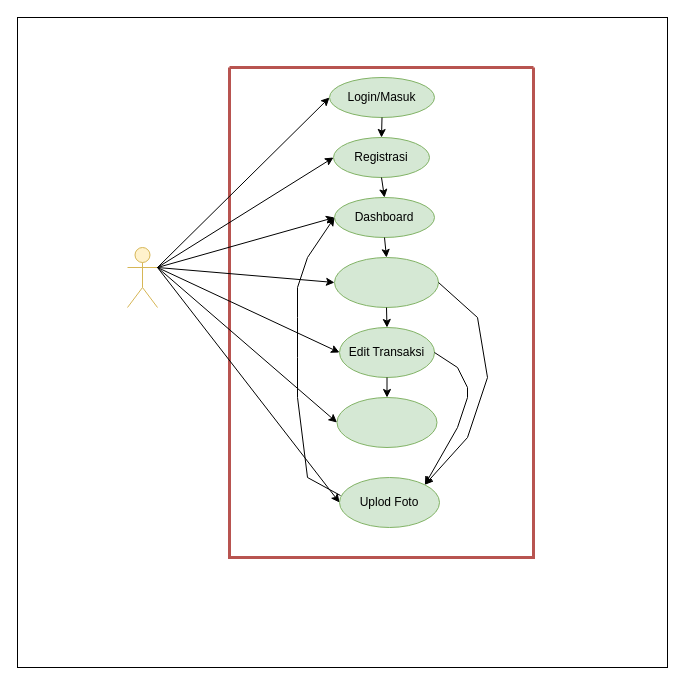
This 685x685 diagram has some shape labels left out. The shapes that lost their labels are listed below. From the top down, each one's centre as x and y in pixels, then its label:
At point 142,277: "User".
At point 386,282: "Tambah Transaksi".
At point 386,422: "Hapus Transaksi".
